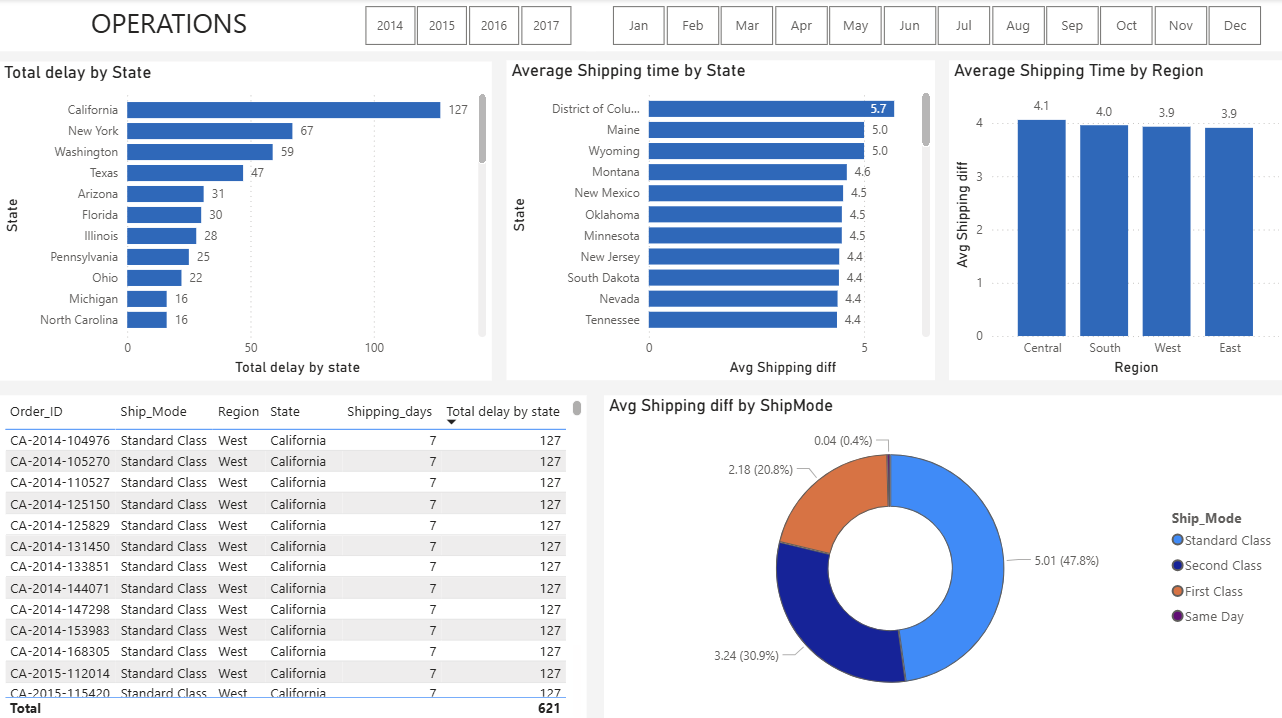

This screenshot's page, from the dashboard's own definition file:
{"tool":"powerbi","page":{"name":"OPERATIONS","canvas":[1280,720],"ordinal":4},"visuals":[{"type":"textbox","box":[0,0,338.4,52.2],"z":0},{"type":"slicer","fields":{"Values":["Date.MonthName"]},"box":[584.6,0,695.4,52.2],"z":1000},{"type":"slicer","fields":{"Values":["Date.Date Hierarchy.Year"]},"box":[338.4,0,255,52.2],"z":2000},{"type":"clusteredBarChart","title":"Average Shipping time by State","fields":{"Y":["Measures (2).Avg Shipping diff"],"Category":["vw_CleanSuperstoreBI.State"]},"box":[505,61,426.7,318.5],"z":3000},{"type":"clusteredBarChart","title":"Total delay by State","fields":{"Category":["vw_CleanSuperstoreBI.State"],"Y":["Measures (2).Total delay by state"]},"box":[0,62.2,490.1,317.2],"z":4000},{"type":"clusteredColumnChart","title":"Average Shipping Time by Region","fields":{"Category":["vw_CleanSuperstoreBI.Region"],"Y":["Measures (2).Avg Shipping diff"]},"box":[945.4,61,334.6,318.5],"z":5000},{"type":"pieChart","title":"Avg Shipping diff by ShipMode","fields":{"Y":["Measures (2).Avg Shipping diff"],"Category":["vw_CleanSuperstoreBI.Ship_Mode"]},"box":[602.1,394.3,678,325.9],"z":6000},{"type":"tableEx","fields":{"Values":["vw_CleanSuperstoreBI.Order_ID","vw_CleanSuperstoreBI.Ship_Mode","vw_CleanSuperstoreBI.Region","vw_CleanSuperstoreBI.State","vw_CleanSuperstoreBI.Shipping_days","Measures (2).Total delay by state"]},"box":[0,394.3,584.7,325.9],"z":7000}]}

Visuals, with their boxes in screenshot pixels (x1, y1, x2, y2), scaled from the page's 1280x720 canvas onto the 1282x718 screenshot:
textbox: BBox(0, 0, 339, 52)
slicer - Date.MonthName: BBox(586, 0, 1281, 52)
slicer - Date.Date Hierarchy.Year: BBox(339, 0, 594, 52)
"Average Shipping time by State" clusteredBarChart: BBox(506, 61, 933, 378)
"Total delay by State" clusteredBarChart: BBox(0, 62, 491, 378)
"Average Shipping Time by Region" clusteredColumnChart: BBox(947, 61, 1281, 378)
"Avg Shipping diff by ShipMode" pieChart: BBox(603, 393, 1281, 717)
tableEx - vw_CleanSuperstoreBI.Order_ID x vw_CleanSuperstoreBI.Ship_Mode: BBox(0, 393, 586, 717)
